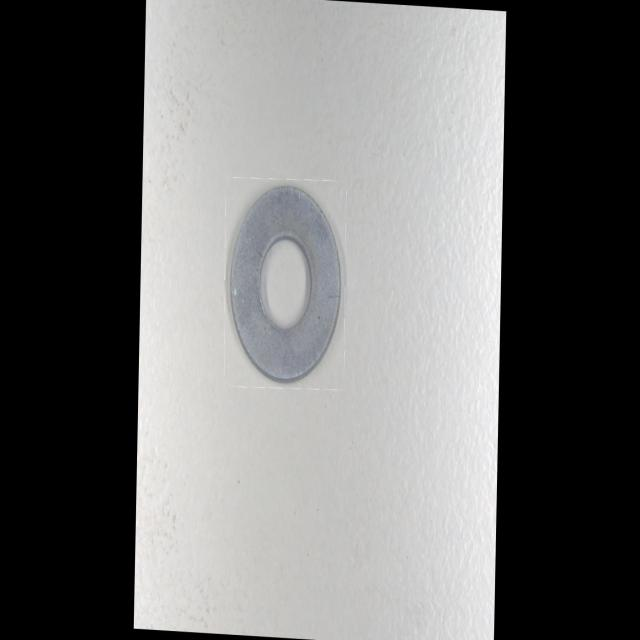washer: (225, 179, 345, 387)
